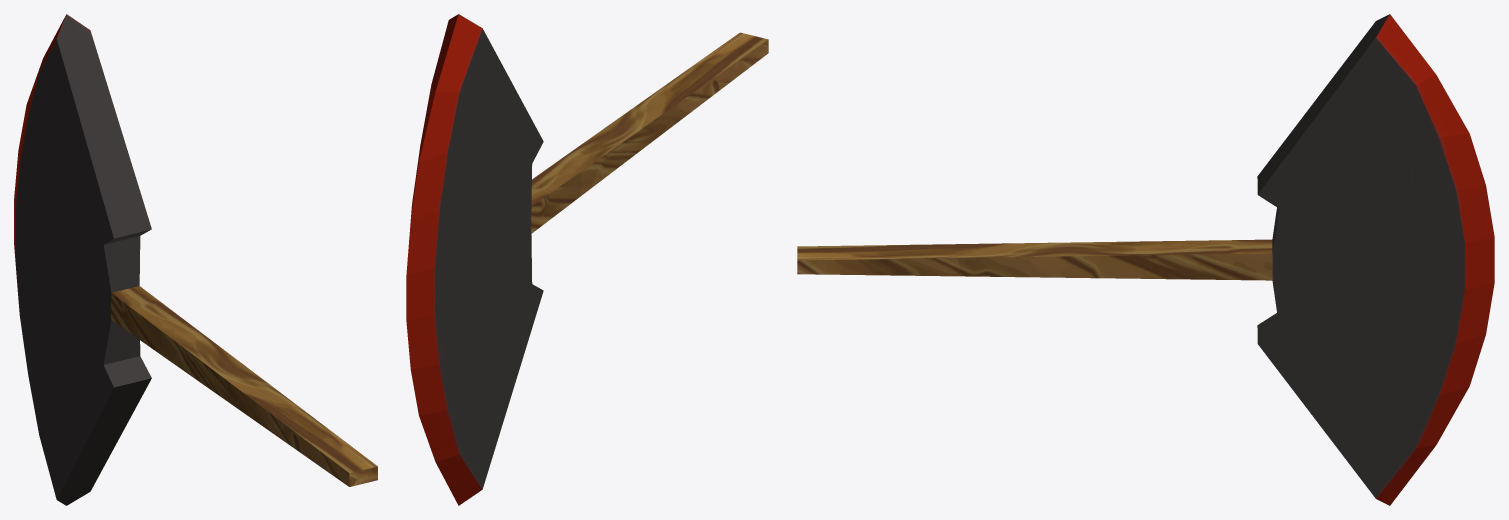
Rendered from swinging_axe.fbx.
3 renders of one model, left to right at view 1: azimuth 30°, elevation 25°; view 2: azimuth 150°, elevation 25°; view 3: azimuth 270°, elevation 25°, orthographic.
Visible parts, largest first — view 1: Cube; view 2: Cube; view 3: Cube.
Part boxes in pixels (x1=…): Cube: x1=14, y1=14, x2=377, y2=505; Cube: x1=406, y1=14, x2=768, y2=505; Cube: x1=797, y1=14, x2=1494, y2=505.
Size of the model in its own units: 51.98 by 643 by 826.
Materials: 1 (1 with a texture image).
